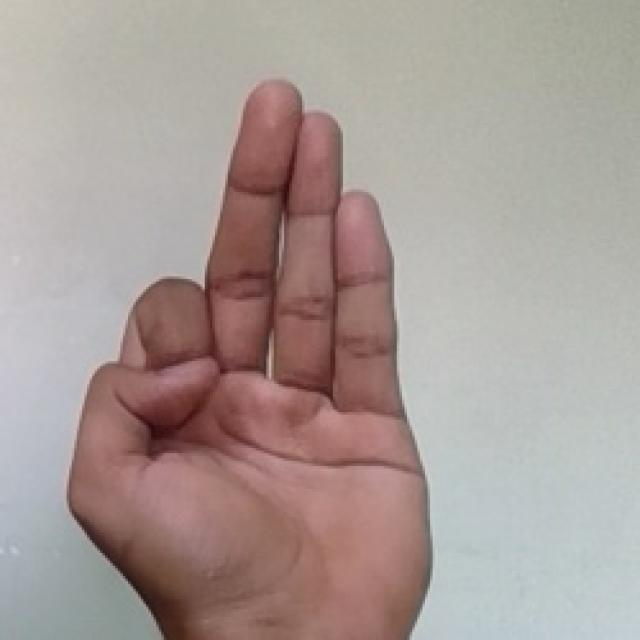Numeric-9: (65, 79, 432, 602)
